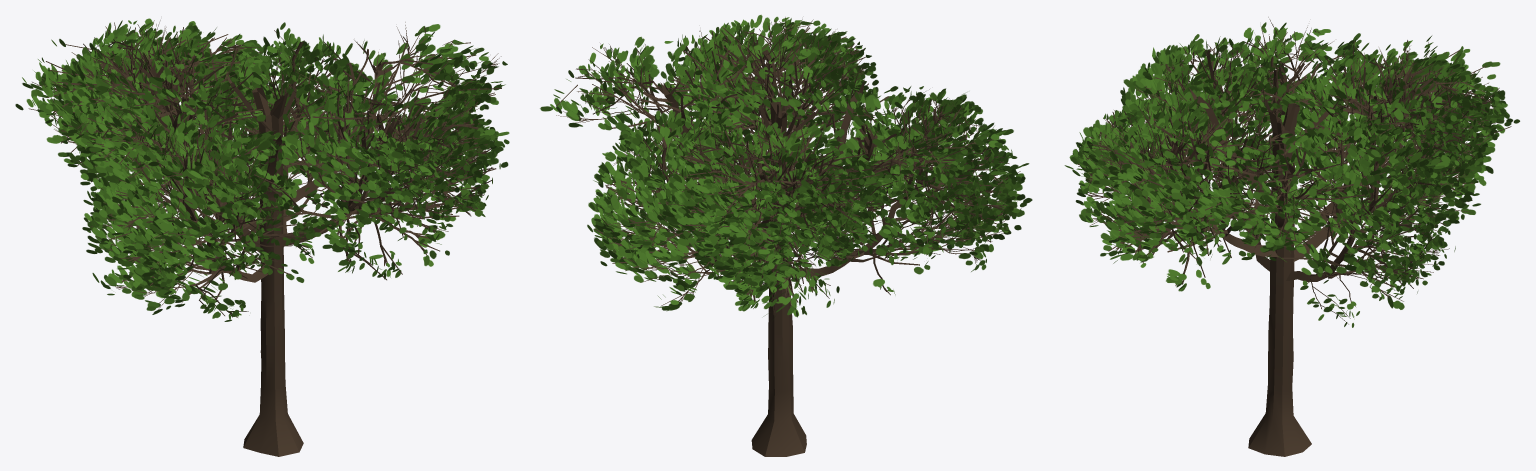
The picture shows the model from 3 angles, left to right: view 1: azimuth 30°, elevation 25°; view 2: azimuth 150°, elevation 25°; view 3: azimuth 270°, elevation 25°; orthographic projection. The views are drawn at different scales.
Parts seen in each view (by area): view 1: oak 01.001_trunk_Mat.001_0.121; view 2: oak 01.001_trunk_Mat.001_0.121; view 3: oak 01.001_trunk_Mat.001_0.121.
Part boxes in pixels (x1,y1,x2,y2): oak 01.001_trunk_Mat.001_0.121: [15, 18, 509, 456]; oak 01.001_trunk_Mat.001_0.121: [540, 14, 1032, 456]; oak 01.001_trunk_Mat.001_0.121: [1064, 17, 1519, 456].
Bounding box in the file's own units: 6.3 × 5.28 × 6.14.
Materials: 2 (1 with a texture image).
